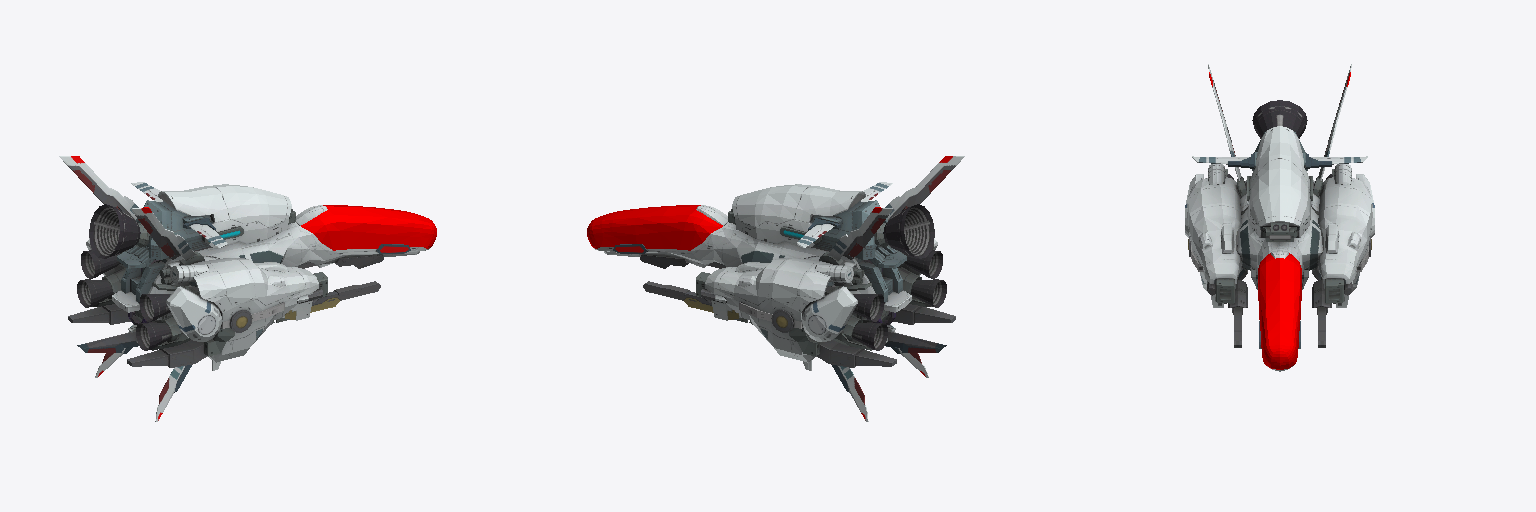
3 renders of one model, left to right at view 1: azimuth 30°, elevation 25°; view 2: azimuth 150°, elevation 25°; view 3: azimuth 270°, elevation 25°, orthographic.
Visible parts, largest first — view 1: obj_025_00.mo_obj_025_00.md; view 2: obj_025_00.mo_obj_025_00.md; view 3: obj_025_00.mo_obj_025_00.md.
Boxes of the visible parts, x1=… form: obj_025_00.mo_obj_025_00.md: x1=59, y1=156, x2=436, y2=421; obj_025_00.mo_obj_025_00.md: x1=587, y1=156, x2=964, y2=421; obj_025_00.mo_obj_025_00.md: x1=1185, y1=64, x2=1374, y2=371.
Size of the model in its own units: 0.8751 by 0.5284 by 0.4049.
2 materials, 2 textured.